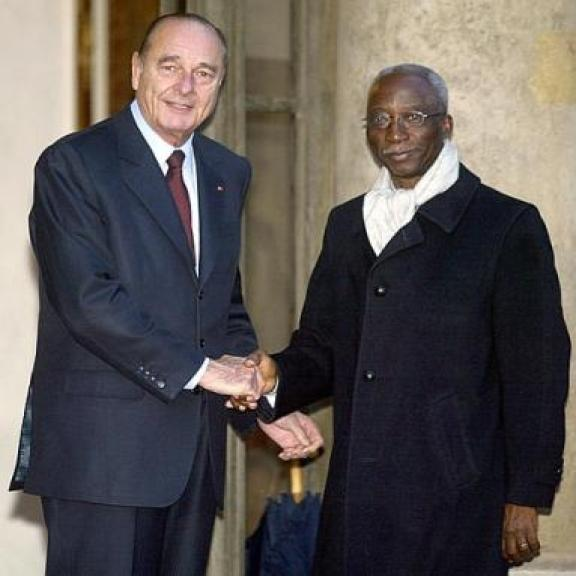face: (125, 33, 230, 136), (366, 84, 458, 180)
